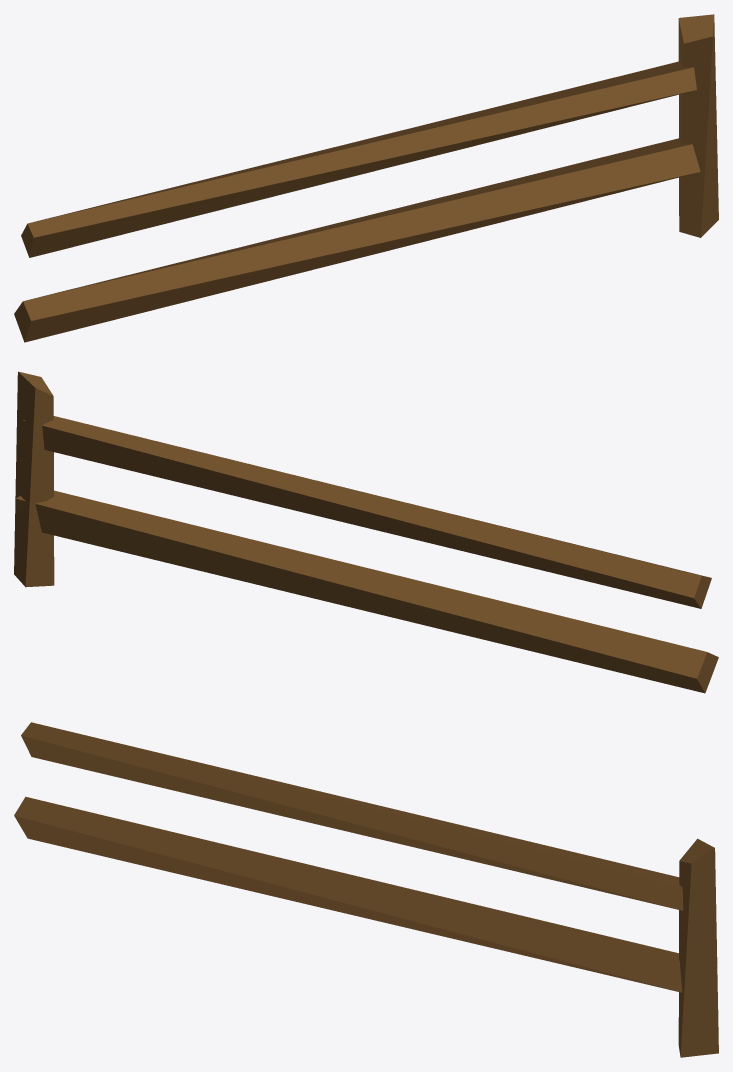
Rendered from Wooden_Fences3.fbx.
3 views of the same model, one above another, from view 1: azimuth 30°, elevation 25°; view 2: azimuth 150°, elevation 25°; view 3: azimuth 330°, elevation 25° (orthographic).
Parts seen in each view (by area): view 1: Wooden_Fences3; view 2: Wooden_Fences3; view 3: Wooden_Fences3.
Part boxes in pixels (bbox=[...]): Wooden_Fences3: bbox=[14, 14, 718, 342]; Wooden_Fences3: bbox=[14, 371, 718, 693]; Wooden_Fences3: bbox=[14, 722, 718, 1057].
Size of the model in its own units: 450 by 129 by 23.85.
